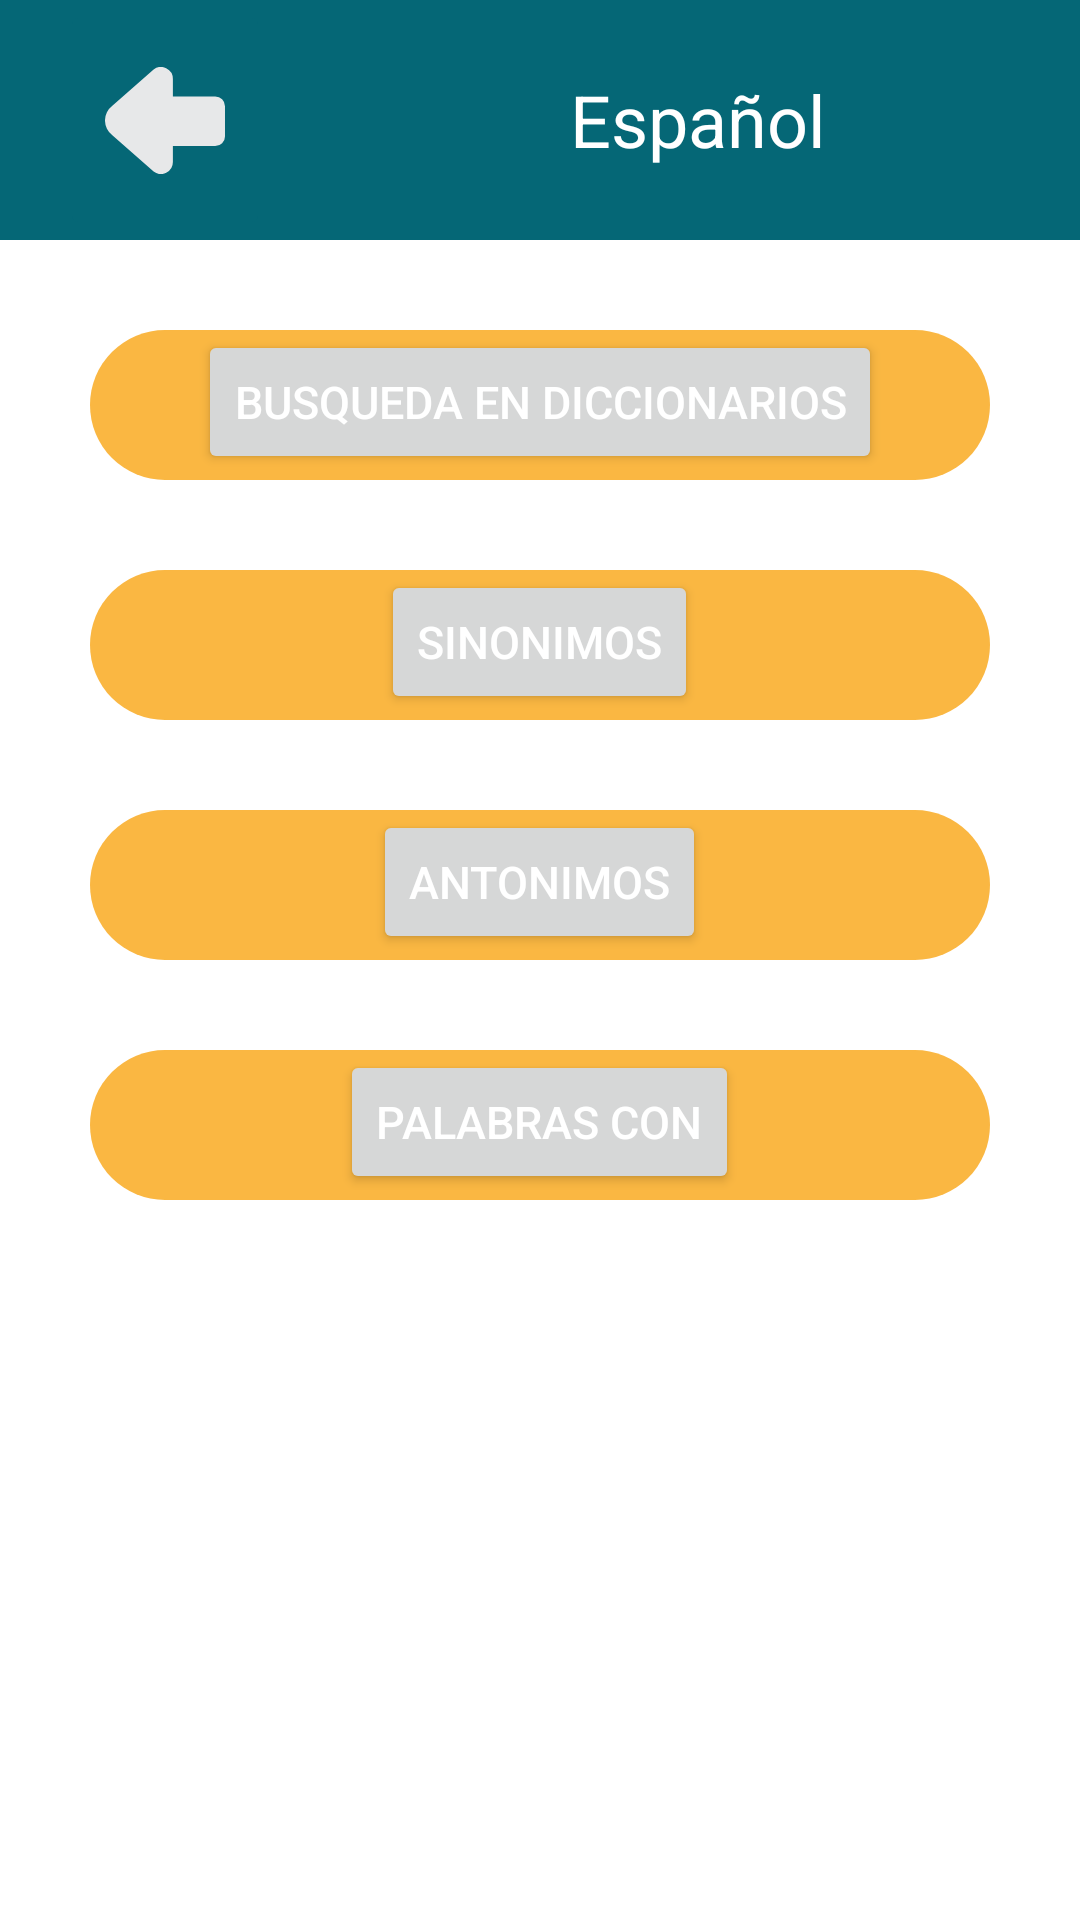

Icon click points for this 1080px x 1920px phone screenshot, format (x=x, y=y):
flechaatras: (x=165, y=120)
